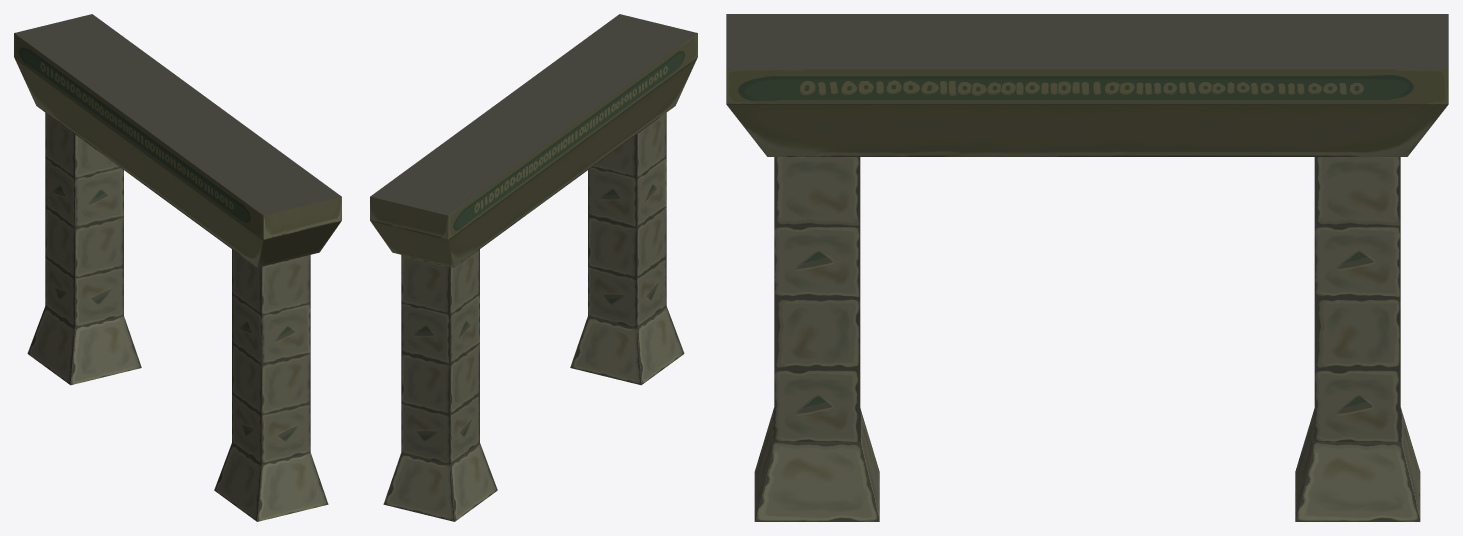
File: doorFrame.fbx
The picture shows the model from 3 angles, left to right: view 1: azimuth 30°, elevation 25°; view 2: azimuth 150°, elevation 25°; view 3: azimuth 270°, elevation 25°; orthographic projection. The views are drawn at different scales.
Visible parts, largest first — view 1: Cube.002, Cube, Cube.001; view 2: Cube.002, Cube.001, Cube; view 3: Cube.002, Cube, Cube.001.
Part boxes in pixels (x1,y1,x2,y2): Cube.002: (14,14,341,267); Cube: (214,249,328,521); Cube.001: (27,113,141,385); Cube.002: (370,14,697,267); Cube.001: (383,249,497,521); Cube: (570,113,684,385); Cube.002: (726,14,1448,156); Cube: (754,157,879,521); Cube.001: (1295,157,1420,521).
Size of the model in its own units: 252 by 966 by 1390.
2 materials, 2 textured.
